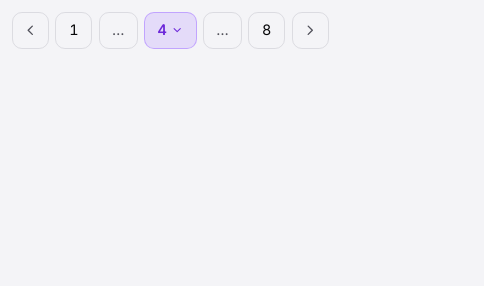
Scenario: ConversasPagination v0.27 (render) › click na atual no meio abre popover com 1..N e atual destacada
Click the button named "página atual 4": (170, 31) 144,12 -> 197,49
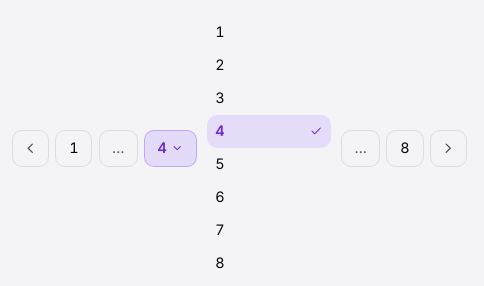
Now the button "5" is shown, box 207,148 -> 331,181
Now the 1st button "1" is shown, box 207,16 -> 331,49
